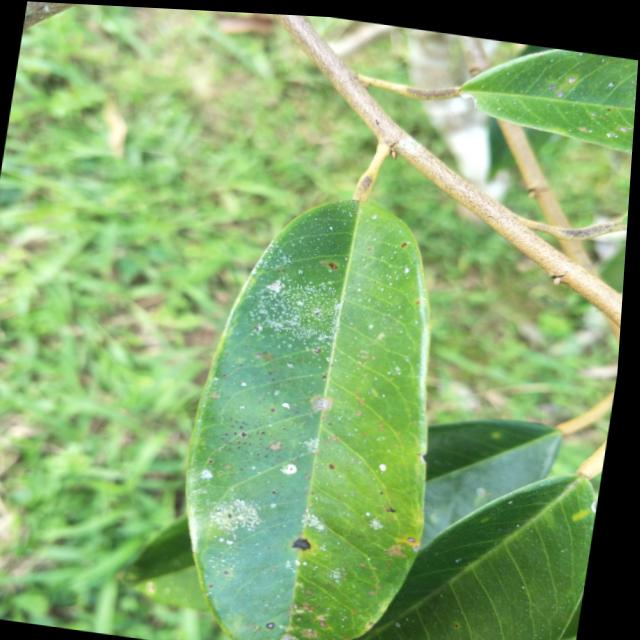Leaf Spot: (216, 366, 432, 580), (249, 236, 387, 373)
